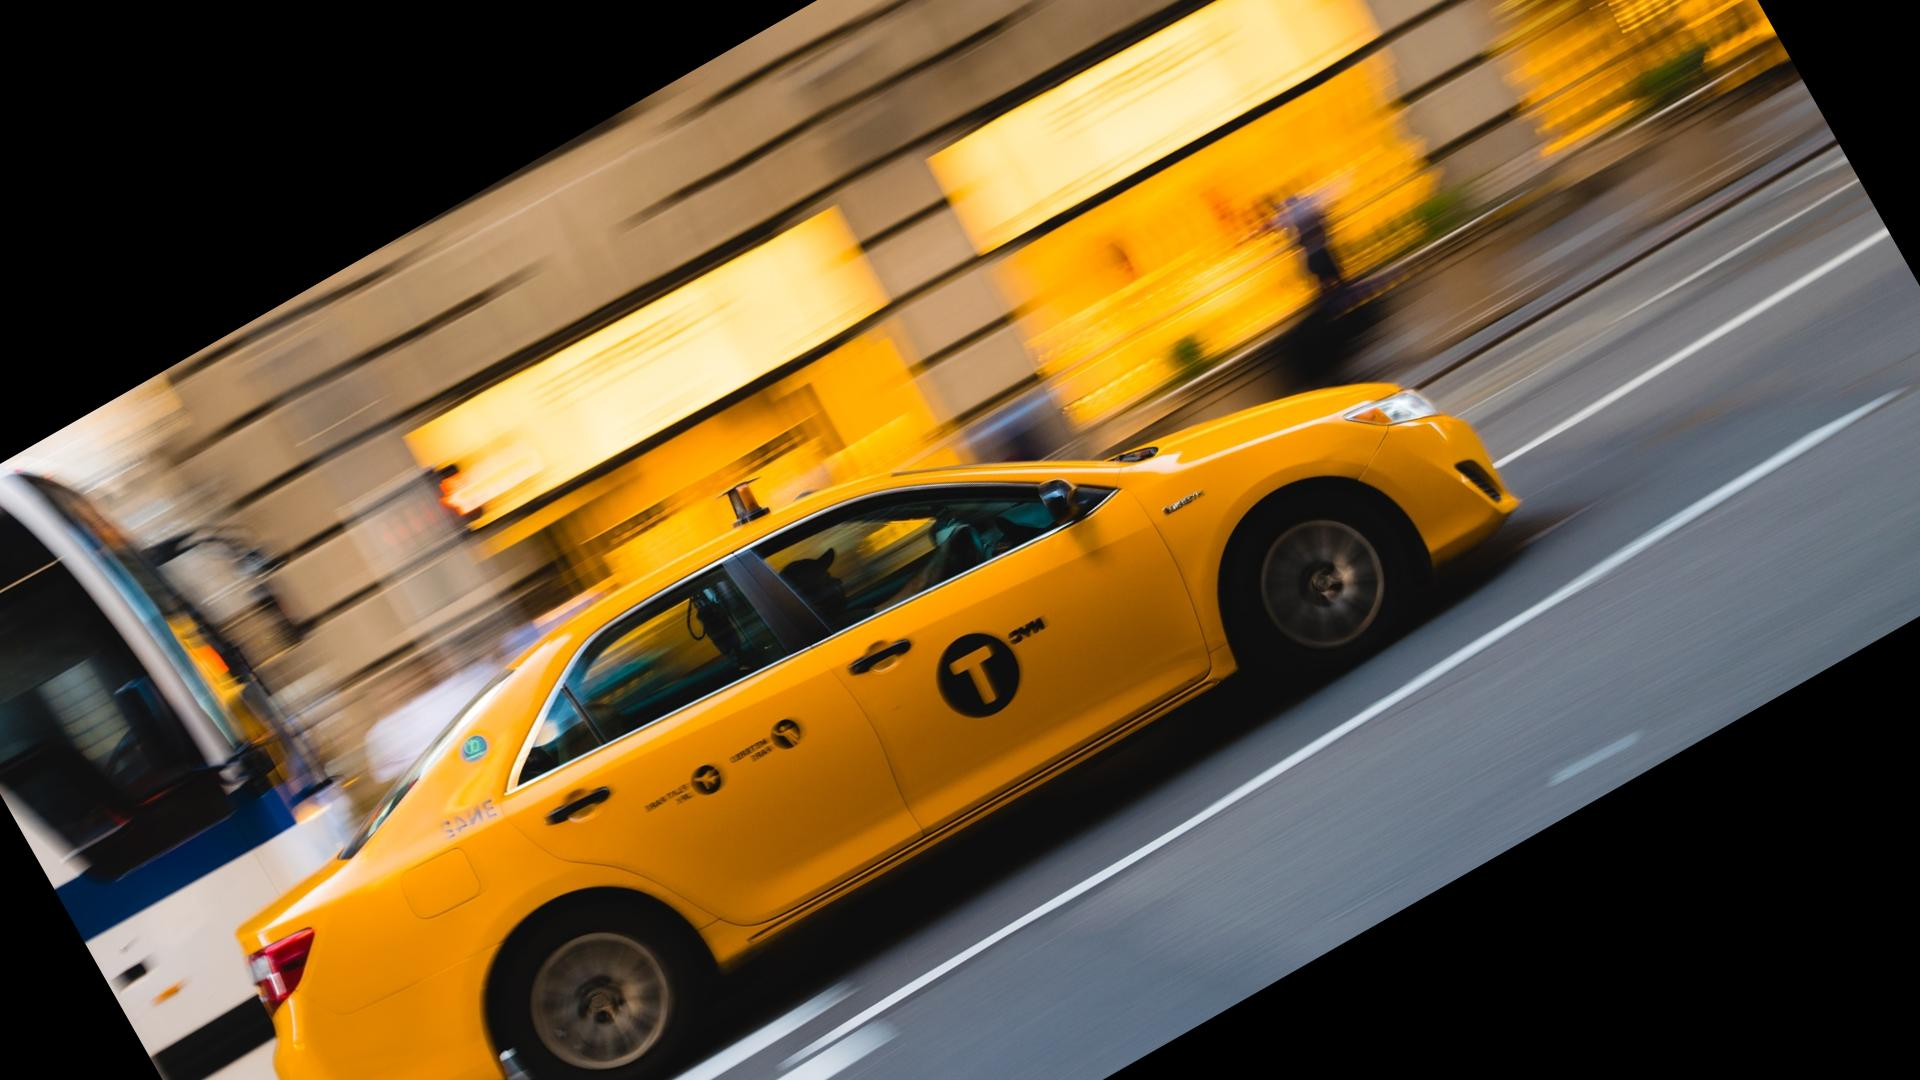taxi: (241, 326, 1532, 1080)
